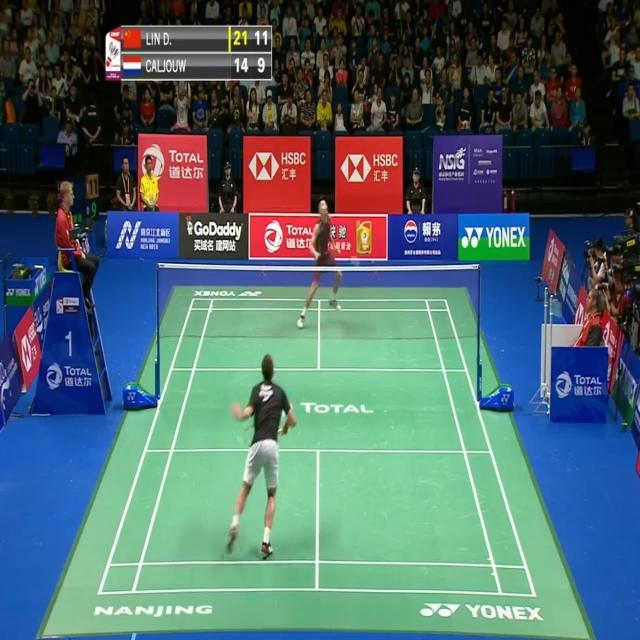Player1: (222, 347, 298, 567)
Player2: (294, 185, 346, 333)
